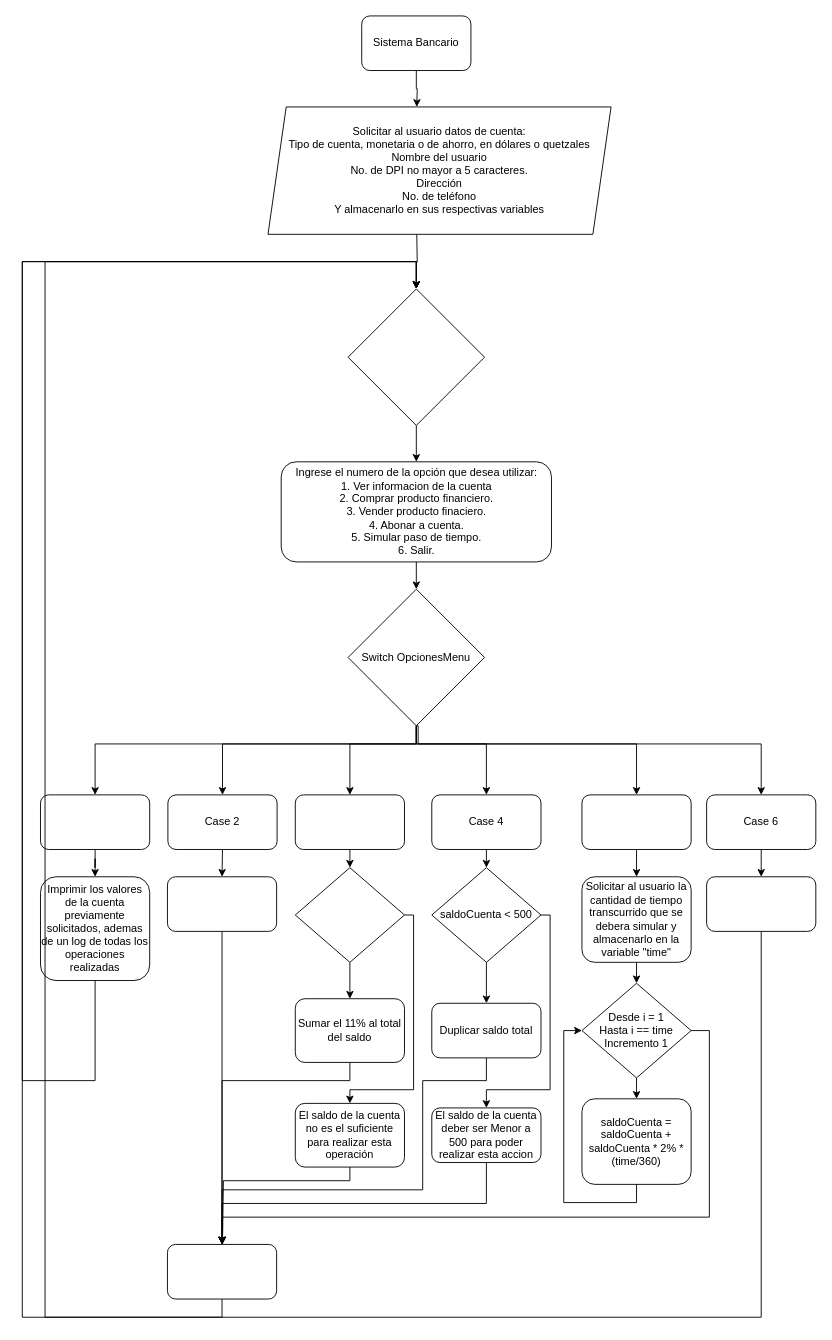
Image size: 832x1340. Some labels were removed from this diagram. Each missing label, with the centre of its shape:
"Case 1" goes at [95,821].
"Case 3" goes at [349,821].
"Case 5" goes at [636,821].
"Imprimir saldo actual de la cuenta" goes at [222,1271].
"menu = False" goes at [761,903].
"Restar el 10% al total del saldol" goes at [222,903].
"saldoCuenta >= 500" goes at [349,914].
"while(menu==true)" goes at [416,356].
